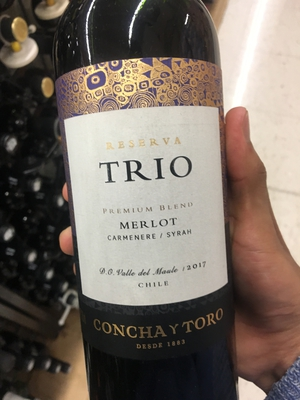trio merlot: (47, 20, 257, 376)
